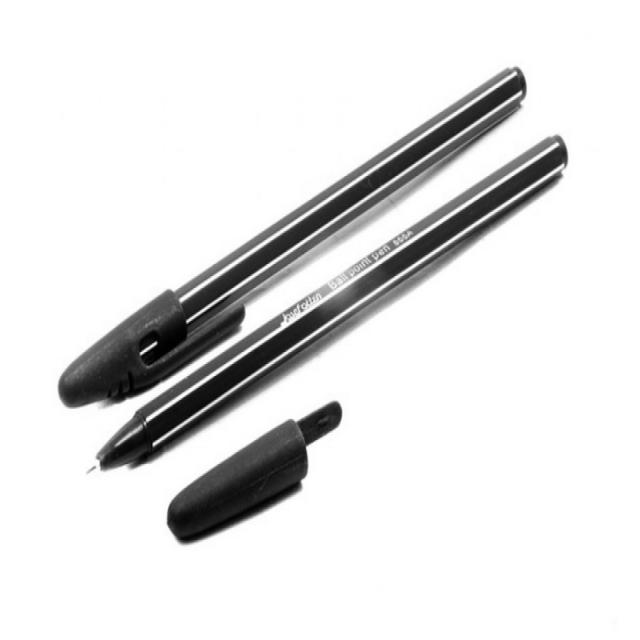pen: (56, 63, 571, 545)
